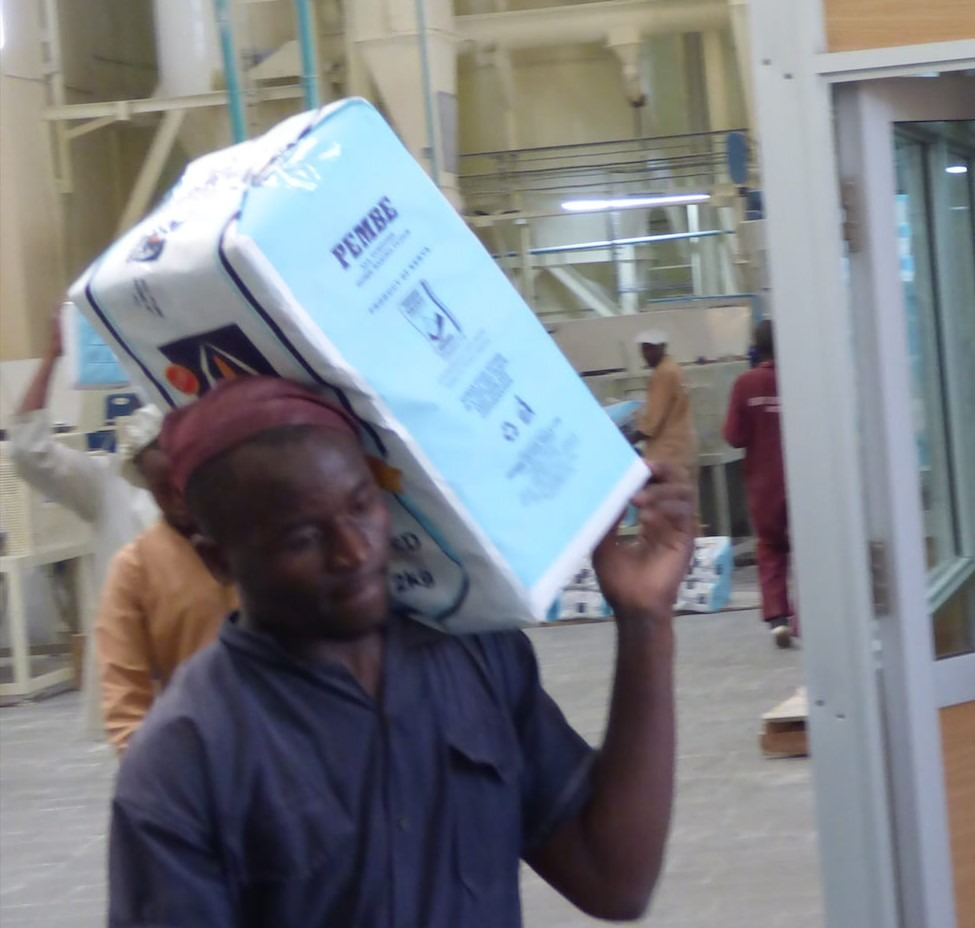wheat_flour_blue_label: (67, 90, 653, 633)
